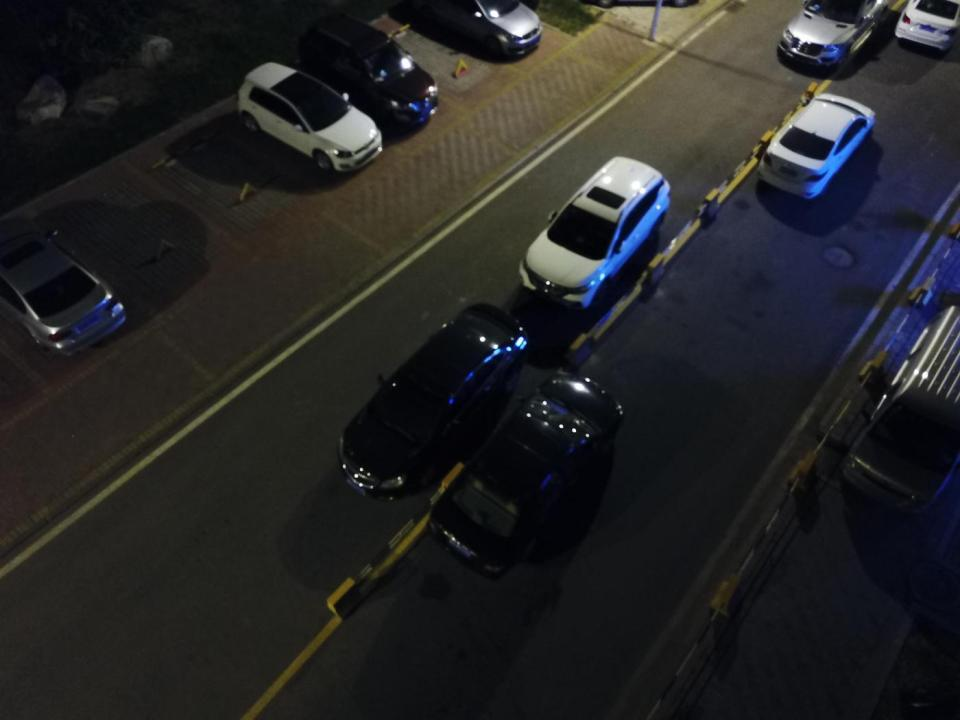car: (427, 371, 624, 580), (336, 301, 530, 503), (518, 156, 670, 312), (235, 62, 384, 175), (0, 228, 128, 356), (296, 16, 440, 129), (756, 93, 876, 201), (776, 0, 892, 74), (408, 0, 543, 58), (894, 0, 960, 54)
van: (837, 303, 960, 516)
